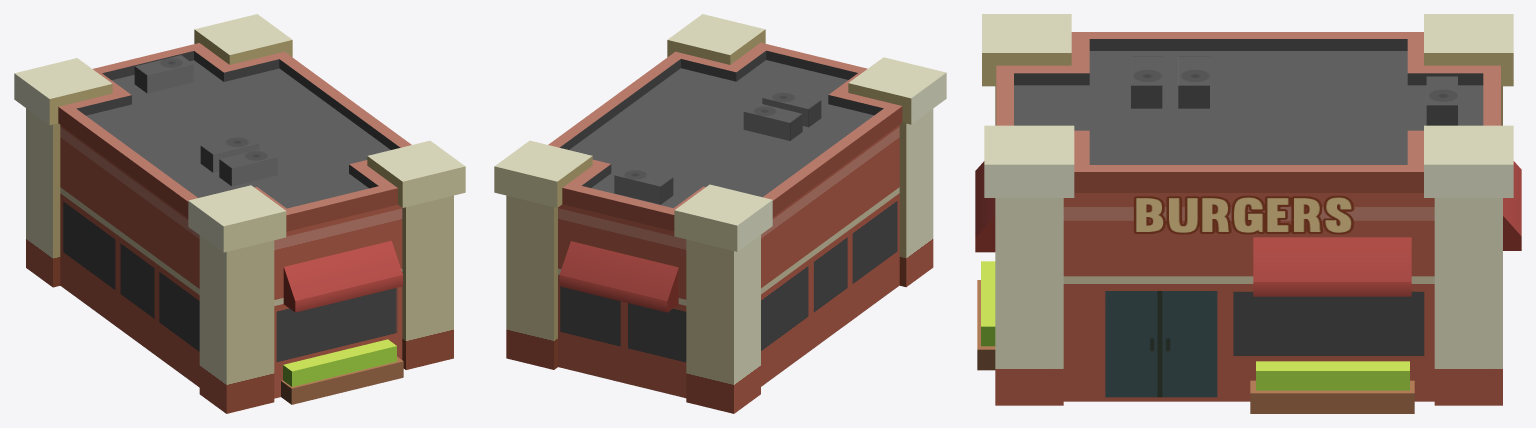
The model's file is burger_shop_base_mesh.fbx.
3 views of the same model, side by side, from view 1: azimuth 30°, elevation 25°; view 2: azimuth 150°, elevation 25°; view 3: azimuth 270°, elevation 25° (orthographic). The views are drawn at different scales.
Visible parts, largest first — view 1: burger_shop_base_mesh; view 2: burger_shop_base_mesh; view 3: burger_shop_base_mesh.
Boxes of the visible parts, x1,y1,x2,y2 form: burger_shop_base_mesh: (14, 14, 465, 413); burger_shop_base_mesh: (494, 14, 946, 413); burger_shop_base_mesh: (975, 14, 1521, 413).
Size of the model in its own units: 12.22 by 9.08 by 18.28.
1 material, 1 textured.
